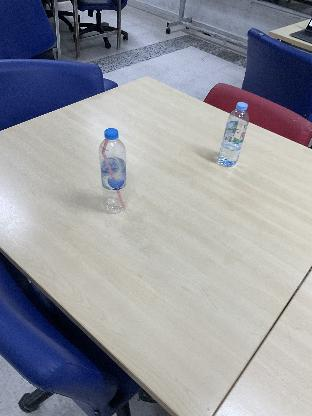Plastic Bottle: (98, 127, 130, 215), (218, 101, 250, 168)
